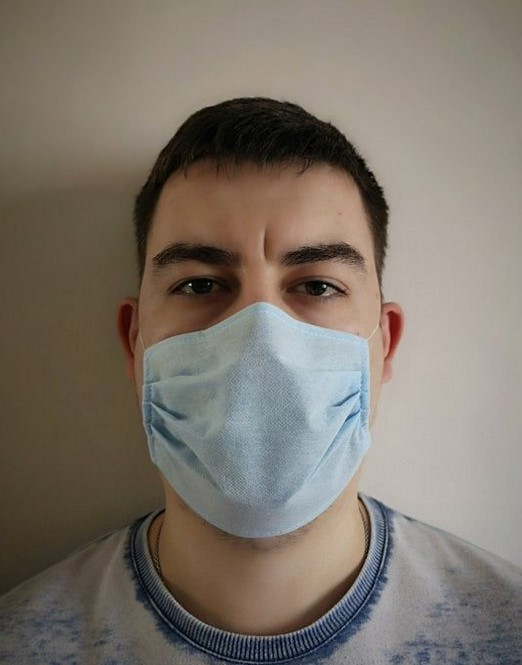face_with_mask: (115, 107, 408, 546)
